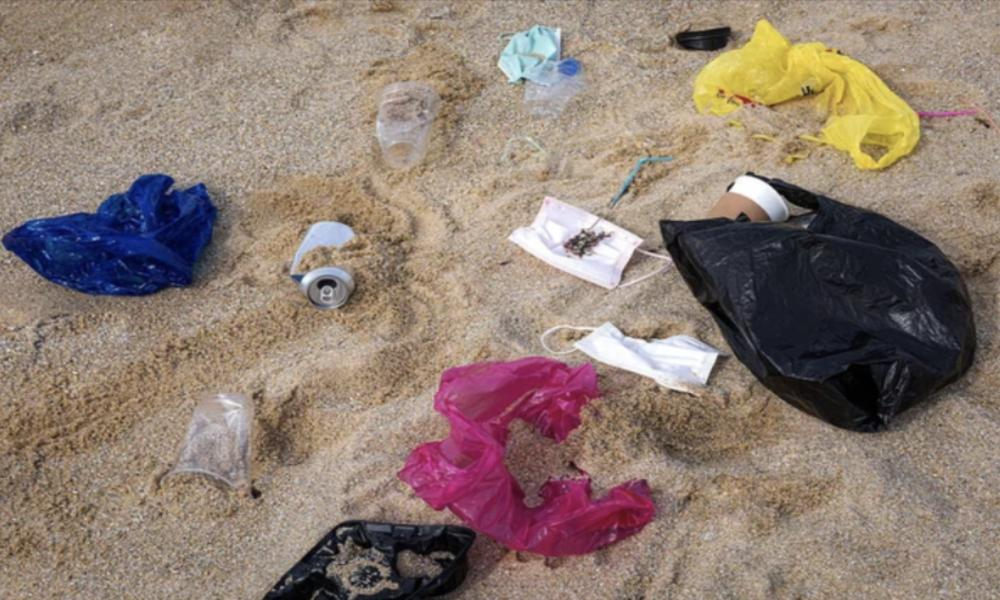can: (294, 219, 356, 311)
plastic bag: (666, 174, 973, 435), (405, 358, 652, 561), (696, 28, 920, 168), (6, 174, 213, 292)
plastic bottle: (509, 62, 586, 166), (178, 398, 247, 504), (380, 84, 436, 170)
